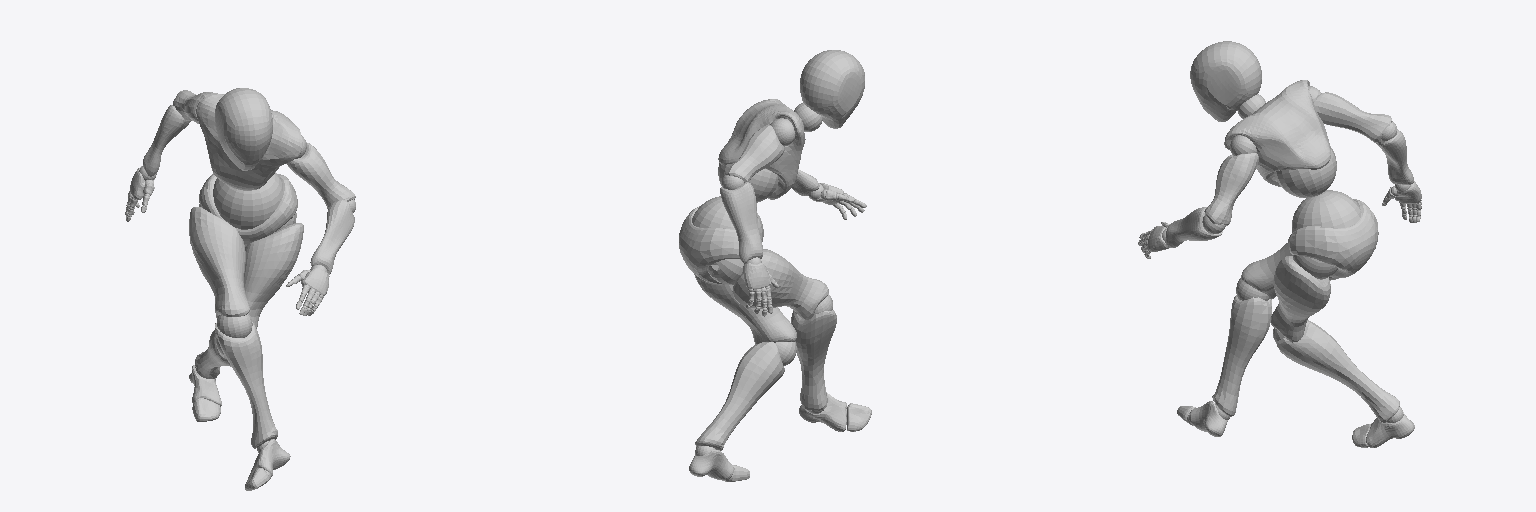
The picture shows the model from 3 angles: view 1: azimuth 30°, elevation 25°; view 2: azimuth 150°, elevation 25°; view 3: azimuth 270°, elevation 25°; orthographic projection.
Visible parts, largest first — view 1: Beta_Surface, Beta_Joints; view 2: Beta_Surface, Beta_Joints; view 3: Beta_Surface, Beta_Joints.
Part boxes in pixels (bbox=[...]): Beta_Surface: bbox=[125, 88, 355, 490]; Beta_Joints: bbox=[125, 98, 355, 478]; Beta_Surface: bbox=[679, 50, 871, 481]; Beta_Joints: bbox=[692, 103, 861, 481]; Beta_Surface: bbox=[1138, 41, 1421, 447]; Beta_Joints: bbox=[1139, 86, 1421, 425].
Bounding box in the file's own units: 0.5246 × 1.45 × 0.9624.